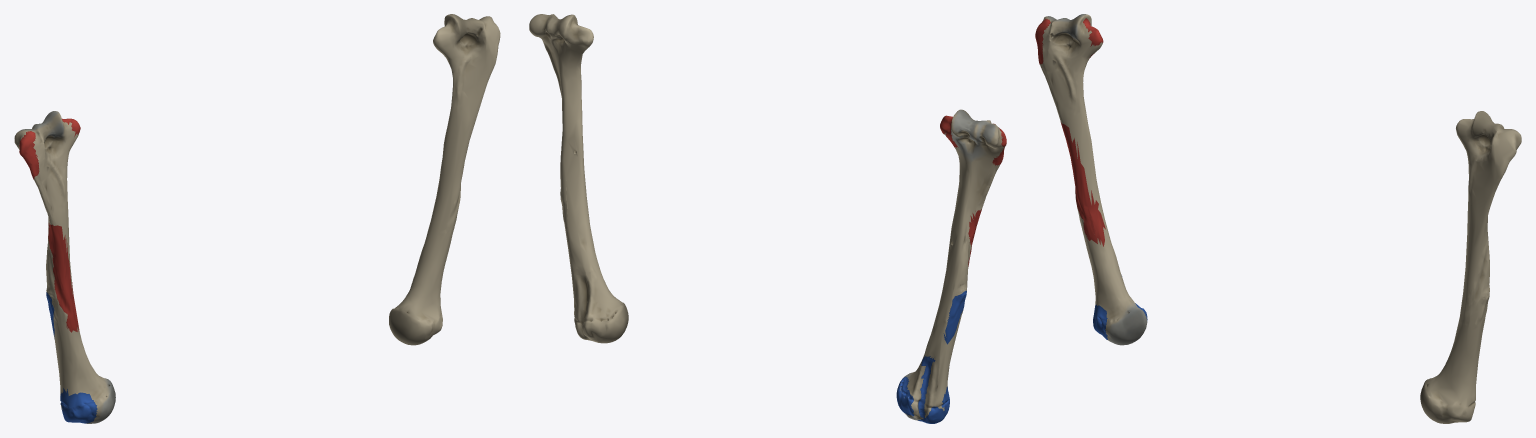
Rendered from humerus.glb.
3 views of the same model, side by side, from view 1: azimuth 30°, elevation 25°; view 2: azimuth 150°, elevation 25°; view 3: azimuth 330°, elevation 25° (orthographic).
Visible parts, largest first — view 1: FJ3262, humerus__fossa-olecrani, FJ3368, humerus__collum-chirurgicum, origo__sulcus-nervi-radialis__FJ1477, humerus__tuberositas-deltoidea, insertio__tuberculum-majus__FJ1500, insertio__tuberculum-majus__FJ1508; view 2: FJ3262, FJ3368, humerus__capitulum-trochlea, humerus__tuberositas-deltoidea, insertio__tuberositas-deltoidea__FJ1467, insertio__tuberculum-minus__FJ1504; view 3: FJ3262, FJ3368, humerus__fossa-olecrani, humerus__collum-chirurgicum, humerus__caput, origo__sulcus-nervi-radialis__FJ1480, origo__sulcus-nervi-radialis__FJ1477.
Part boxes in pixels (left/top/right/bottom): FJ3262: left=389, top=14, right=500, bottom=345; humerus__fossa-olecrani: left=33, top=119, right=75, bottom=201; FJ3368: left=31, top=111, right=108, bottom=423; humerus__collum-chirurgicum: left=59, top=345, right=113, bottom=399; origo__sulcus-nervi-radialis__FJ1477: left=50, top=224, right=77, bottom=332; humerus__tuberositas-deltoidea: left=46, top=249, right=69, bottom=339; insertio__tuberculum-majus__FJ1500: left=62, top=401, right=97, bottom=422; insertio__tuberculum-majus__FJ1508: left=60, top=388, right=93, bottom=409; FJ3262: left=529, top=14, right=628, bottom=343; FJ3368: left=900, top=109, right=1003, bottom=419; humerus__capitulum-trochlea: left=945, top=110, right=995, bottom=162; humerus__tuberositas-deltoidea: left=944, top=245, right=971, bottom=336; insertio__tuberositas-deltoidea__FJ1467: left=943, top=290, right=966, bottom=344; insertio__tuberculum-minus__FJ1504: left=896, top=377, right=914, bottom=416; FJ3262: left=1420, top=111, right=1521, bottom=423; FJ3368: left=1047, top=14, right=1135, bottom=339; humerus__fossa-olecrani: left=1040, top=21, right=1091, bottom=100; humerus__collum-chirurgicum: left=1088, top=254, right=1136, bottom=319; humerus__caput: left=1108, top=303, right=1147, bottom=345; origo__sulcus-nervi-radialis__FJ1480: left=1065, top=125, right=1105, bottom=246; origo__sulcus-nervi-radialis__FJ1477: left=1060, top=121, right=1097, bottom=243.
Bounding box in the file's own units: 482 × 307 × 49.89.
